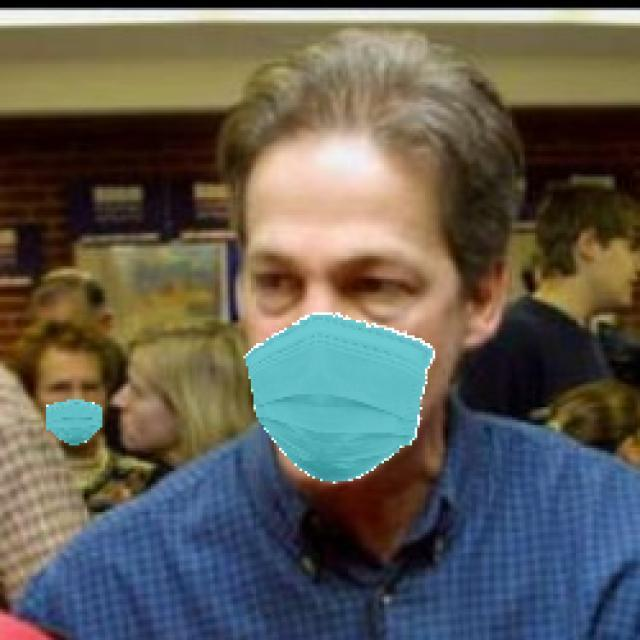surgical: (243, 155, 459, 485), (28, 347, 112, 450)
